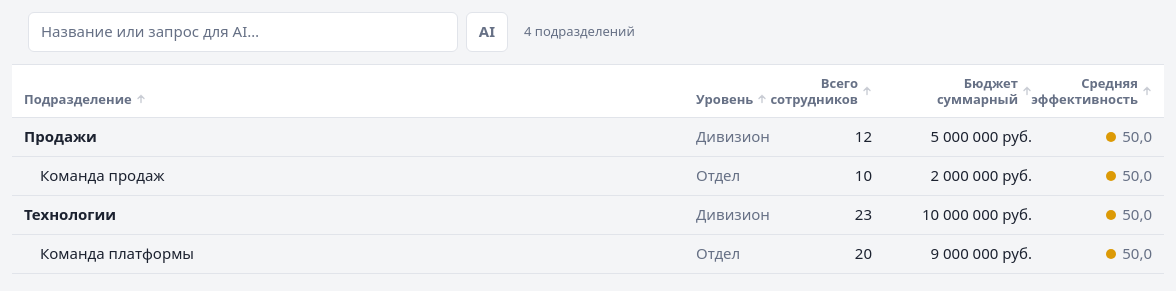
Test: AI-поиск в таблице › «Сбросить» очищает поле и AI-фильтр
Type "дивизионы" into the search field named "Поиск по названию подразделения".
click(243, 32); type("дивизионы")  # box [28,12,458,52]
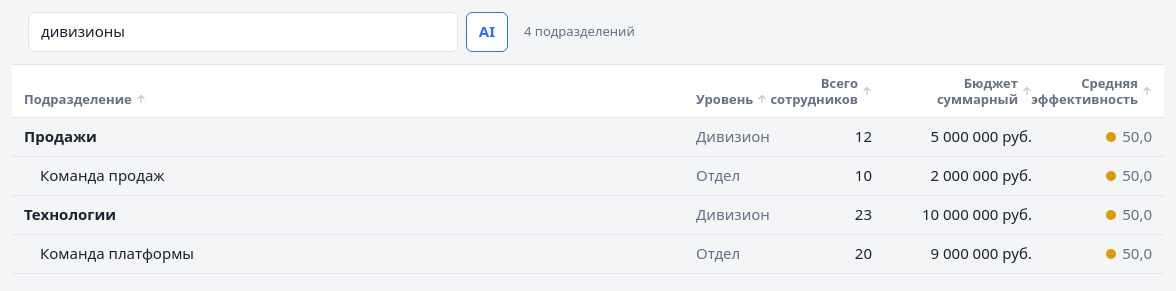
Submit the form named "Поиск по названию подразделения", box [28,12,508,52]
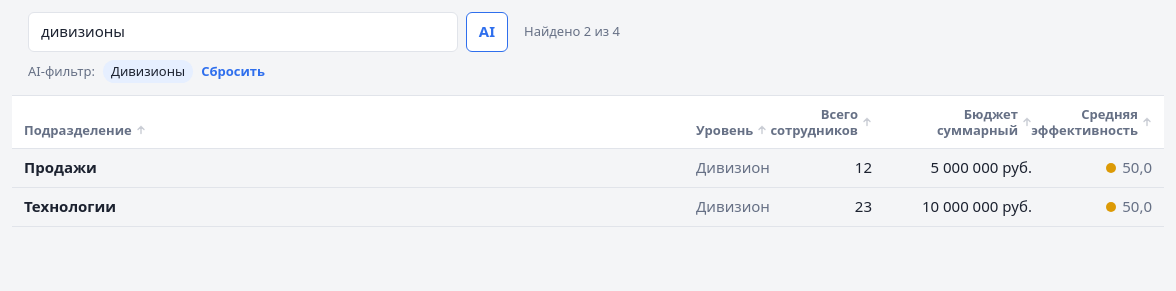
Click the button "Сбросить".
click(233, 71)  # box [201,62,265,81]
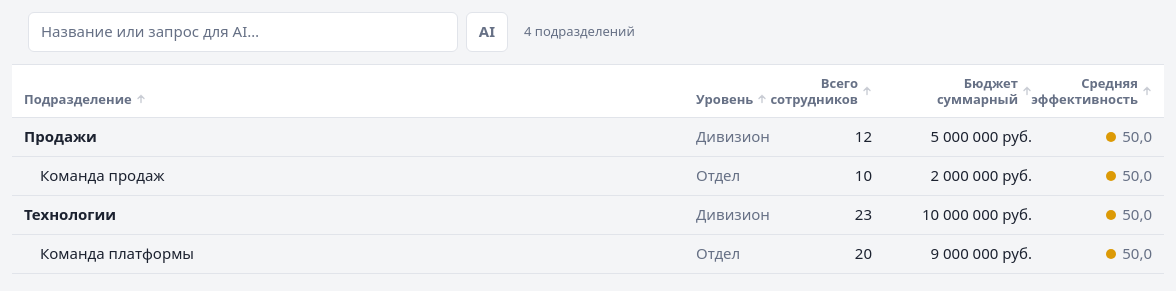
Check: the search field named "Поиск по названию подразделения" is empty, box [28,12,458,52]
